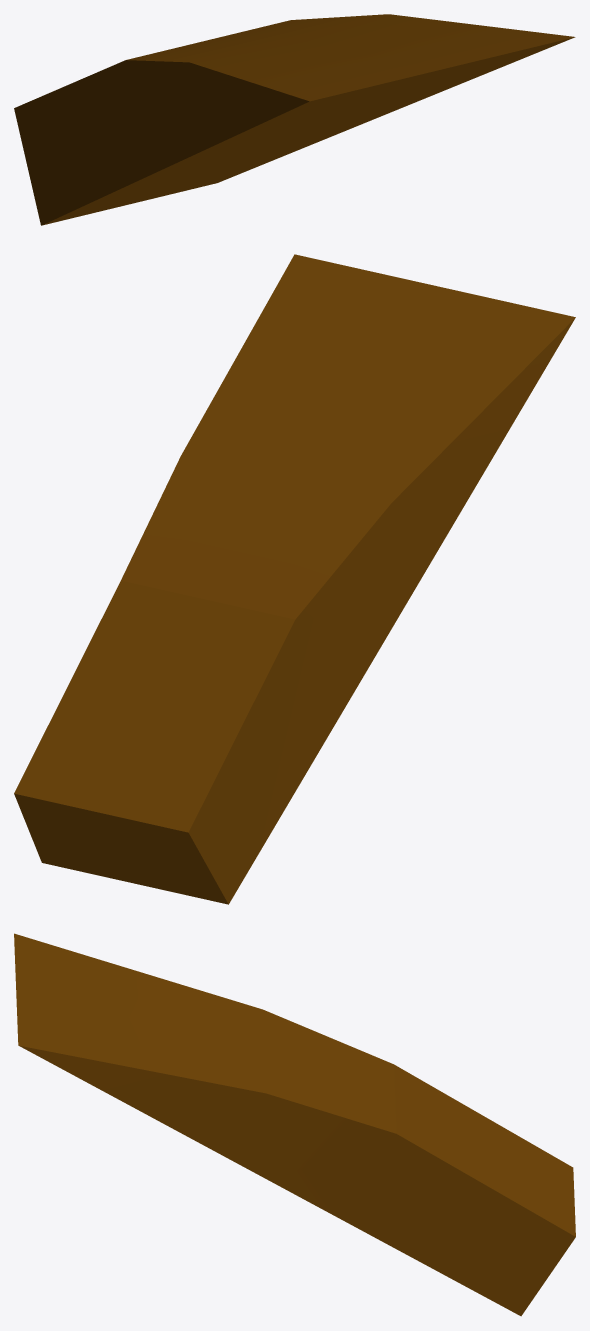
3 views of the same model, one above another, from view 1: azimuth 30°, elevation 25°; view 2: azimuth 150°, elevation 25°; view 3: azimuth 270°, elevation 25° (orthographic). The views are drawn at different scales.
Visible parts, largest first — view 1: 右44; view 2: 右44; view 3: 右44.
Part boxes in pixels (x1,y1,x2,y2): 右44: [14, 14, 575, 225]; 右44: [14, 254, 575, 904]; 右44: [14, 933, 575, 1316].
Size of the model in its own units: 15.65 by 19.77 by 33.92.
